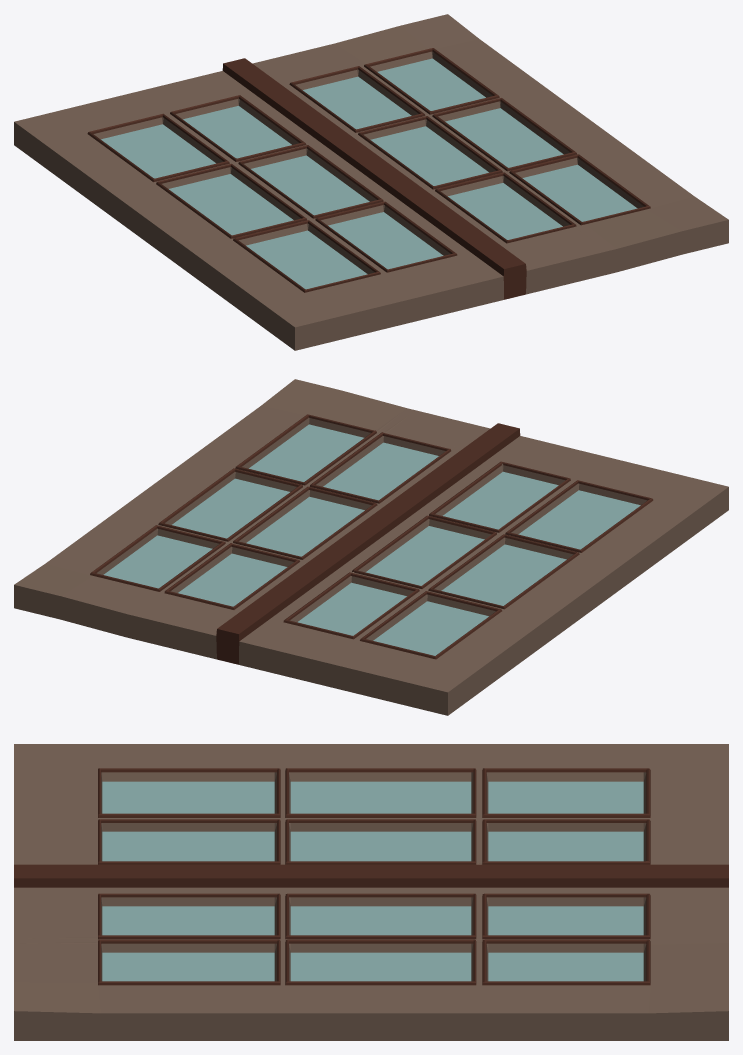
Rendered from window.fbx.
3 views of the same model, one above another, from view 1: azimuth 30°, elevation 25°; view 2: azimuth 150°, elevation 25°; view 3: azimuth 270°, elevation 25° (orthographic). The views are drawn at different scales.
Parts seen in each view (by area): view 1: raam; view 2: raam; view 3: raam.
Boxes of the visible parts, bbox=[...] form: raam: bbox=[14, 14, 728, 350]; raam: bbox=[14, 379, 728, 715]; raam: bbox=[14, 744, 728, 1040].
Bounding box in the file's own units: 2.16 × 0.146 × 2.42.
